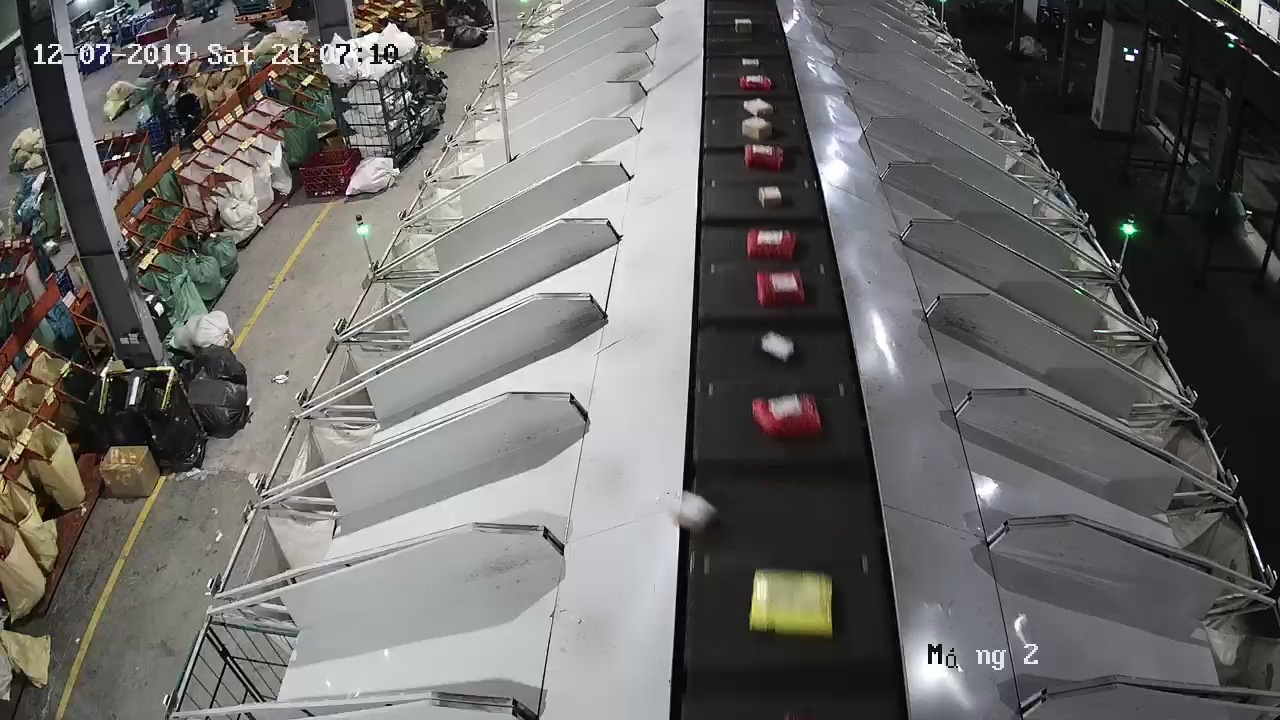parcel: (670, 489, 717, 533)
